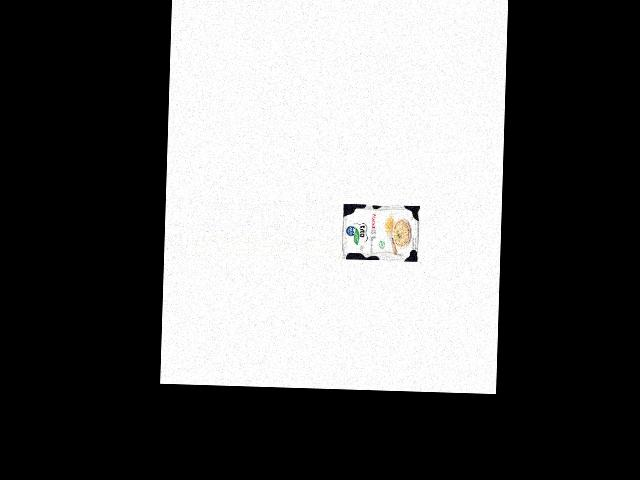cheese: (341, 201, 421, 263)
